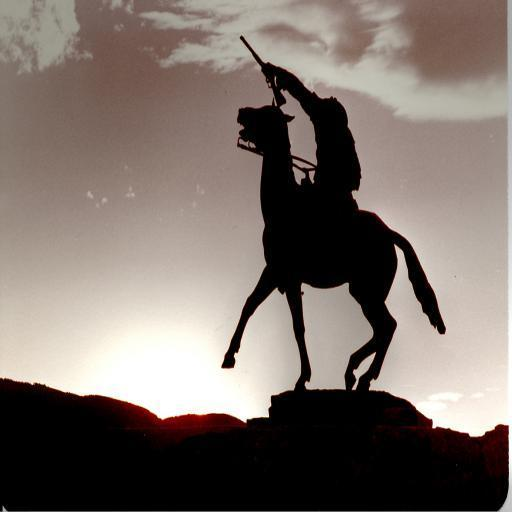horse: (220, 92, 448, 390)
